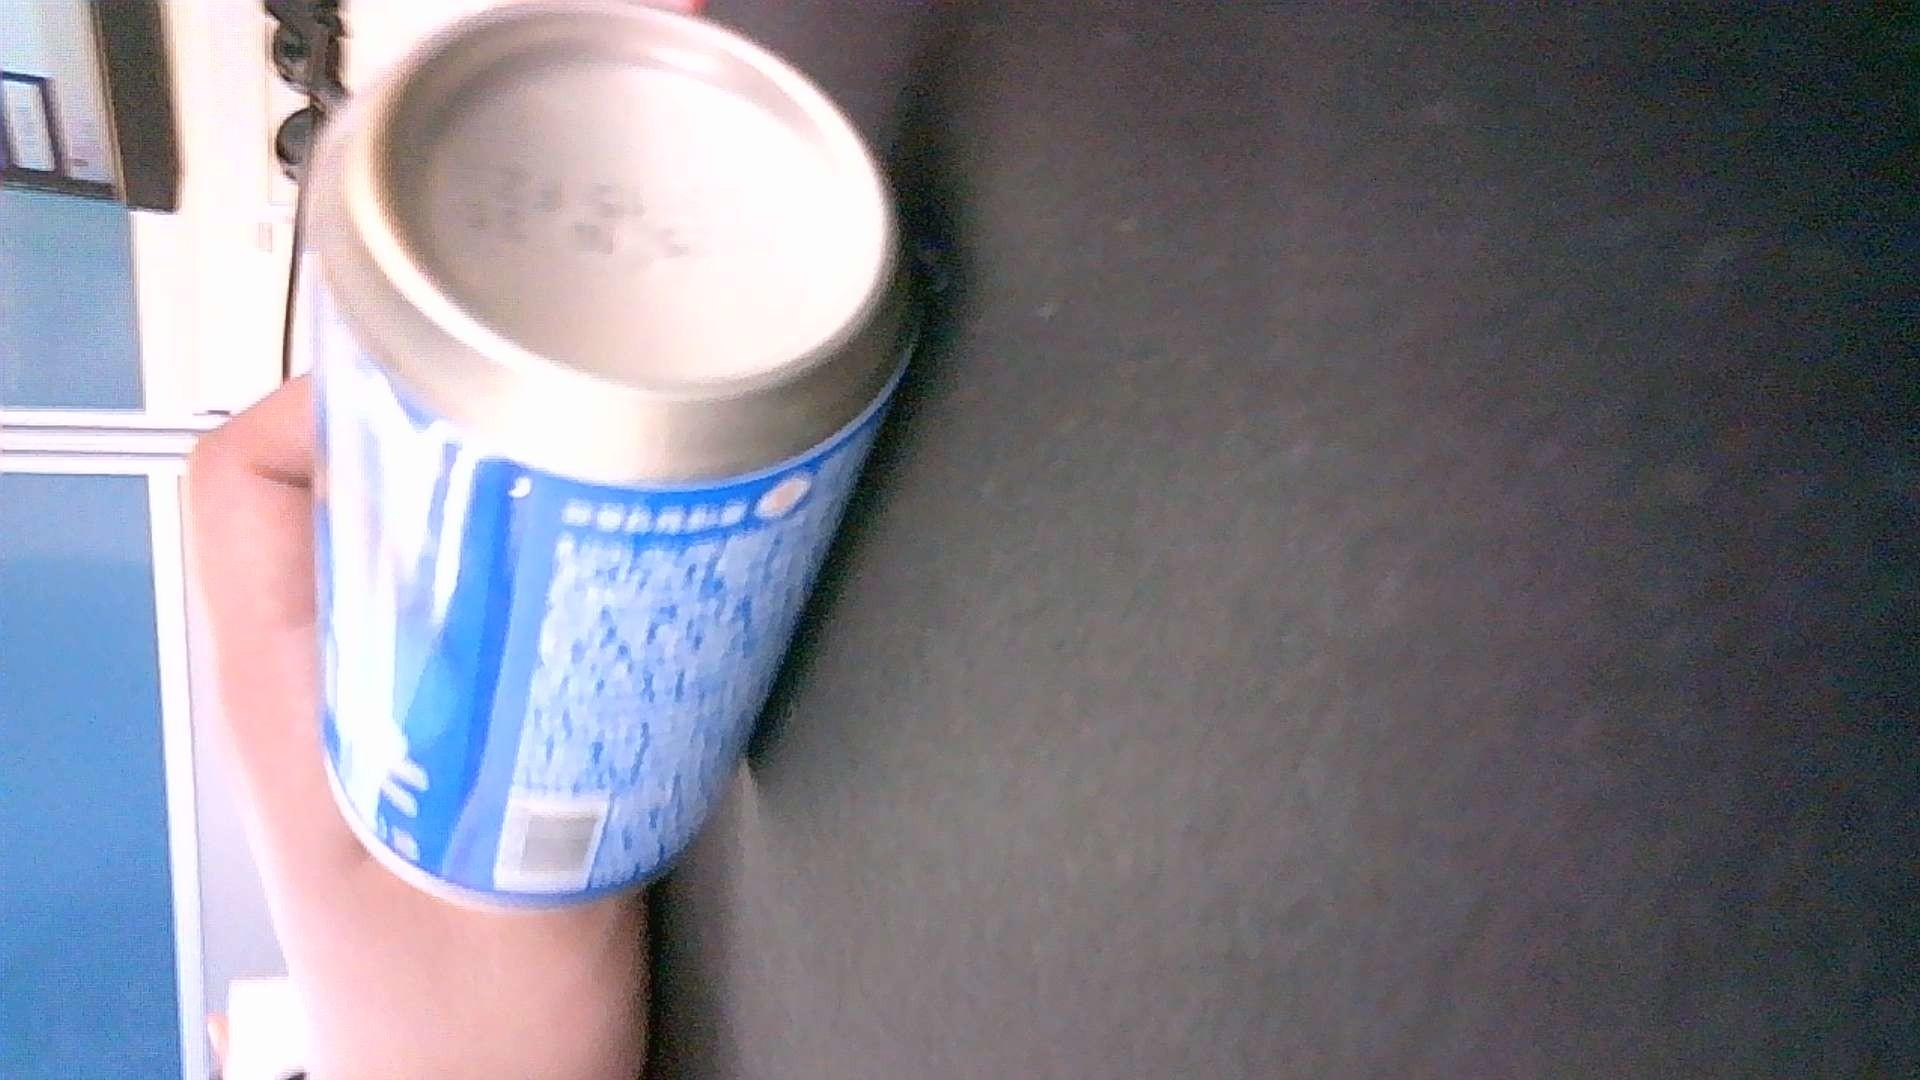letsbe: (313, 3, 926, 911)
